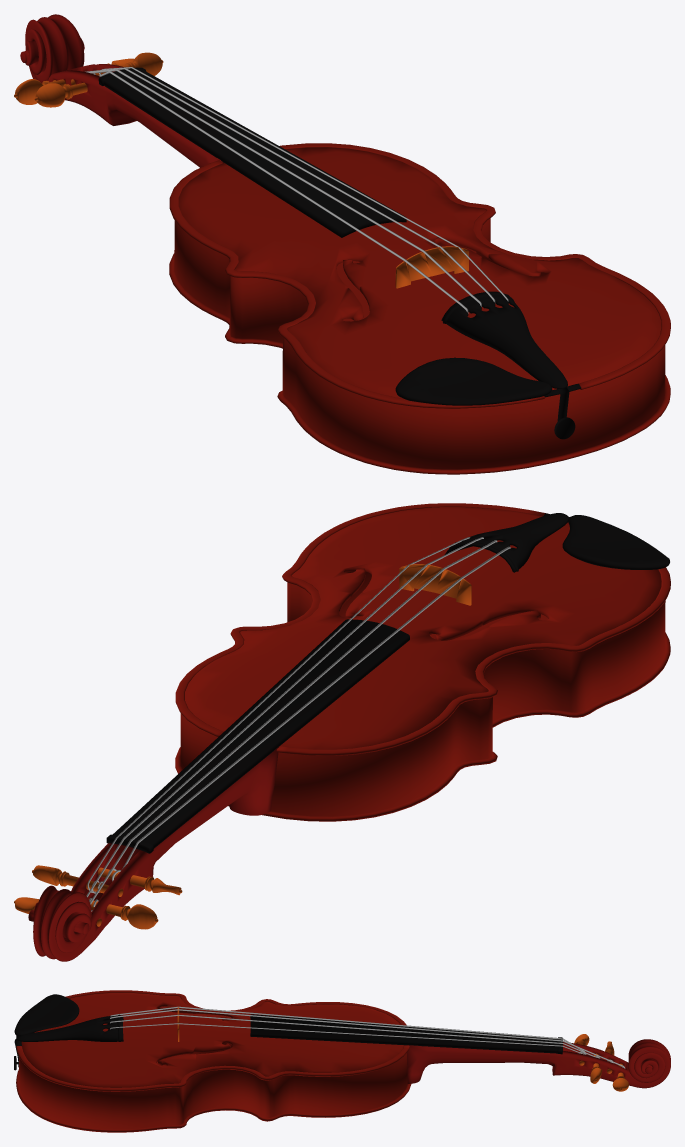
The model's file is violin.obj.
3 renders of one model, top to bottom at view 1: azimuth 30°, elevation 25°; view 2: azimuth 150°, elevation 25°; view 3: azimuth 270°, elevation 25°, orthographic. The views are drawn at different scales.
Visible parts, largest first — view 1: VIOL, VIOLBLAC, VIOLNECK, violstri, VIOLTUNN; view 2: VIOL, VIOLBLAC, VIOLNECK, violstri, VIOLTUNN; view 3: VIOL, VIOLBLAC, VIOLNECK, violstri, VIOLTUNN.
Boxes of the visible parts, left/top/right/bottom form: VIOL: left=169, top=143, right=670, bottom=474; VIOLBLAC: left=98, top=67, right=581, bottom=405; VIOLNECK: left=20, top=14, right=222, bottom=167; violstri: left=85, top=67, right=508, bottom=313; VIOLTUNN: left=14, top=52, right=468, bottom=288; VIOL: left=175, top=503, right=670, bottom=821; VIOLBLAC: left=106, top=513, right=669, bottom=853; VIOLNECK: left=28, top=746, right=278, bottom=961; violstri: left=86, top=537, right=510, bottom=911; VIOLTUNN: left=14, top=564, right=471, bottom=929; VIOL: left=16, top=990, right=411, bottom=1132; VIOLBLAC: left=14, top=994, right=562, bottom=1054; VIOLNECK: left=406, top=1039, right=670, bottom=1088; violstri: left=110, top=1006, right=625, bottom=1068; VIOLTUNN: left=177, top=1007, right=628, bottom=1091.
Bounding box in the file's own units: 44.29 × 14.95 × 123.
